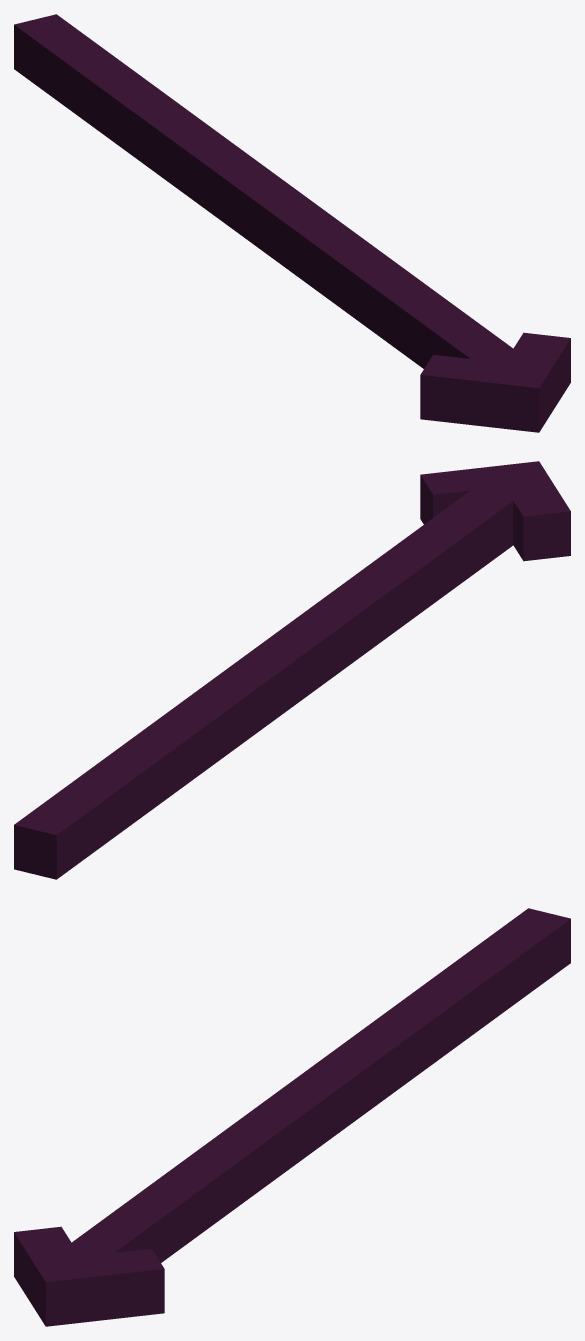
Rendered from HeresyBlowgunA.fbx.
The picture shows the model from 3 angles, top to bottom: view 1: azimuth 30°, elevation 25°; view 2: azimuth 150°, elevation 25°; view 3: azimuth 330°, elevation 25°; orthographic projection.
Visible parts, largest first — view 1: Cube.009; view 2: Cube.009; view 3: Cube.009.
Boxes of the visible parts, x1,y1,x2,y2 form: Cube.009: [14, 14, 570, 432]; Cube.009: [14, 461, 570, 879]; Cube.009: [14, 908, 570, 1326].
Bounding box in the file's own units: 14.15 × 4 × 82.01.
